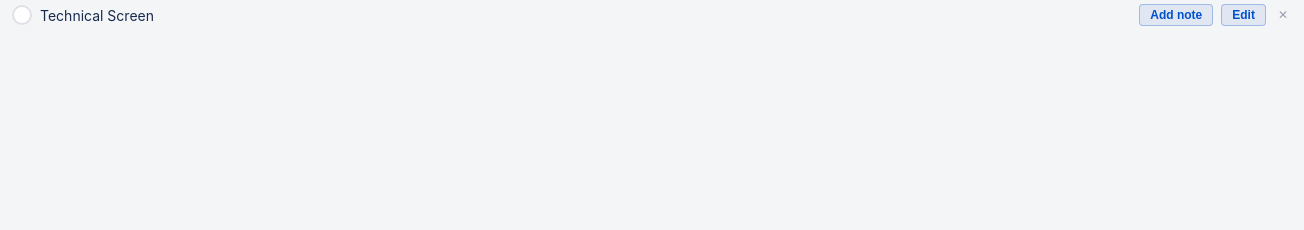
Test: StageItem › completing a stage › cancels the completion dialog when Cancel is clicked
This screenshot has width=1304, height=230.
Click the button titled "Mark complete" at point(22, 15), box [12, 5, 32, 25]
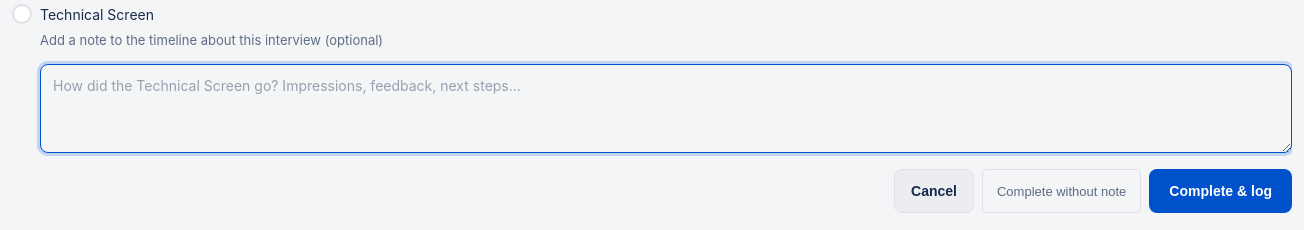
Click the button "Cancel" at point(934, 191), box [894, 169, 974, 213]
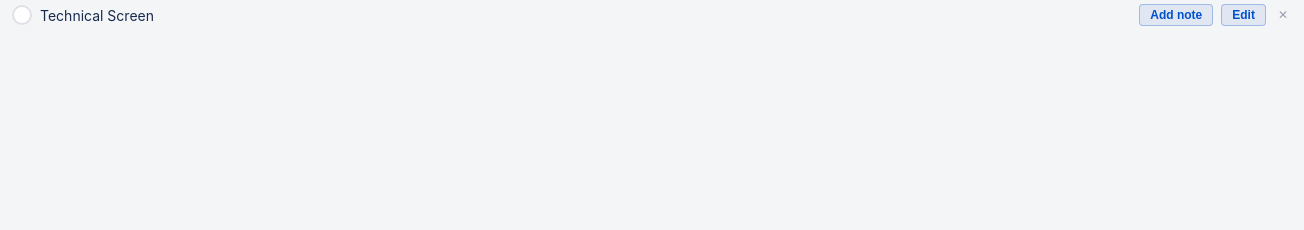
Now the text "Add a note to the timeline" is gone
